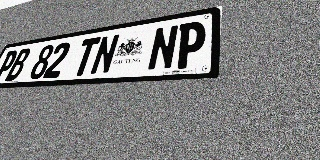2: (42, 41, 72, 78)
8: (28, 44, 57, 79)
B: (4, 48, 32, 81)
N: (146, 24, 179, 71), (89, 34, 120, 75)
P: (174, 20, 207, 69), (0, 50, 20, 82)
T: (70, 37, 101, 77)
